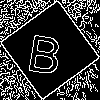B: (25, 25, 66, 76)
